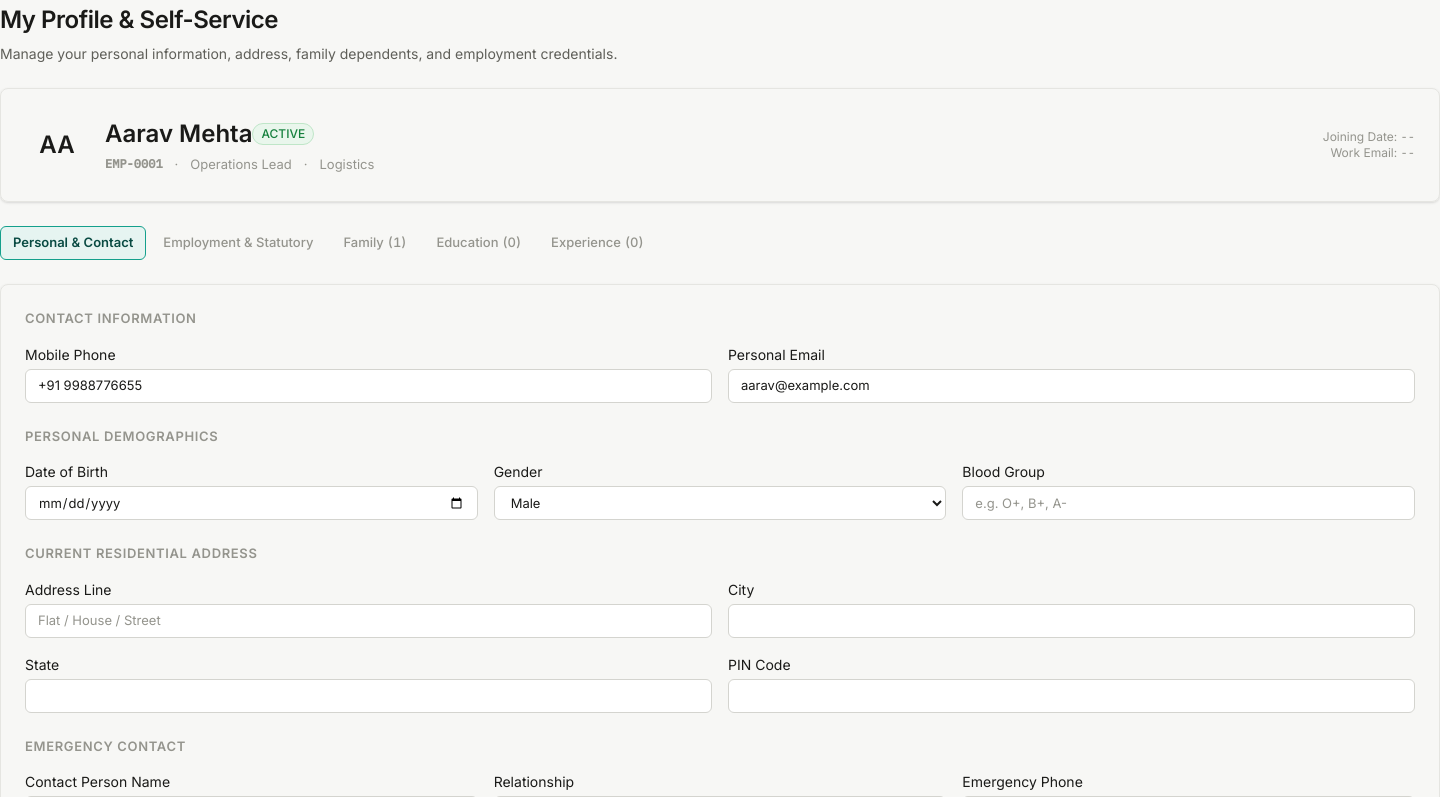
it: MyProfilePage › renders profile when employee is linked
Expected: the heading "Aarav Mehta" is shown, 105,117 -> 252,151
Expected: the text "EMP-0001" is shown, 105,156 -> 163,172
Check family tab
Click the tab "Family (1)".
click(375, 243)  # box 330,226 -> 419,260
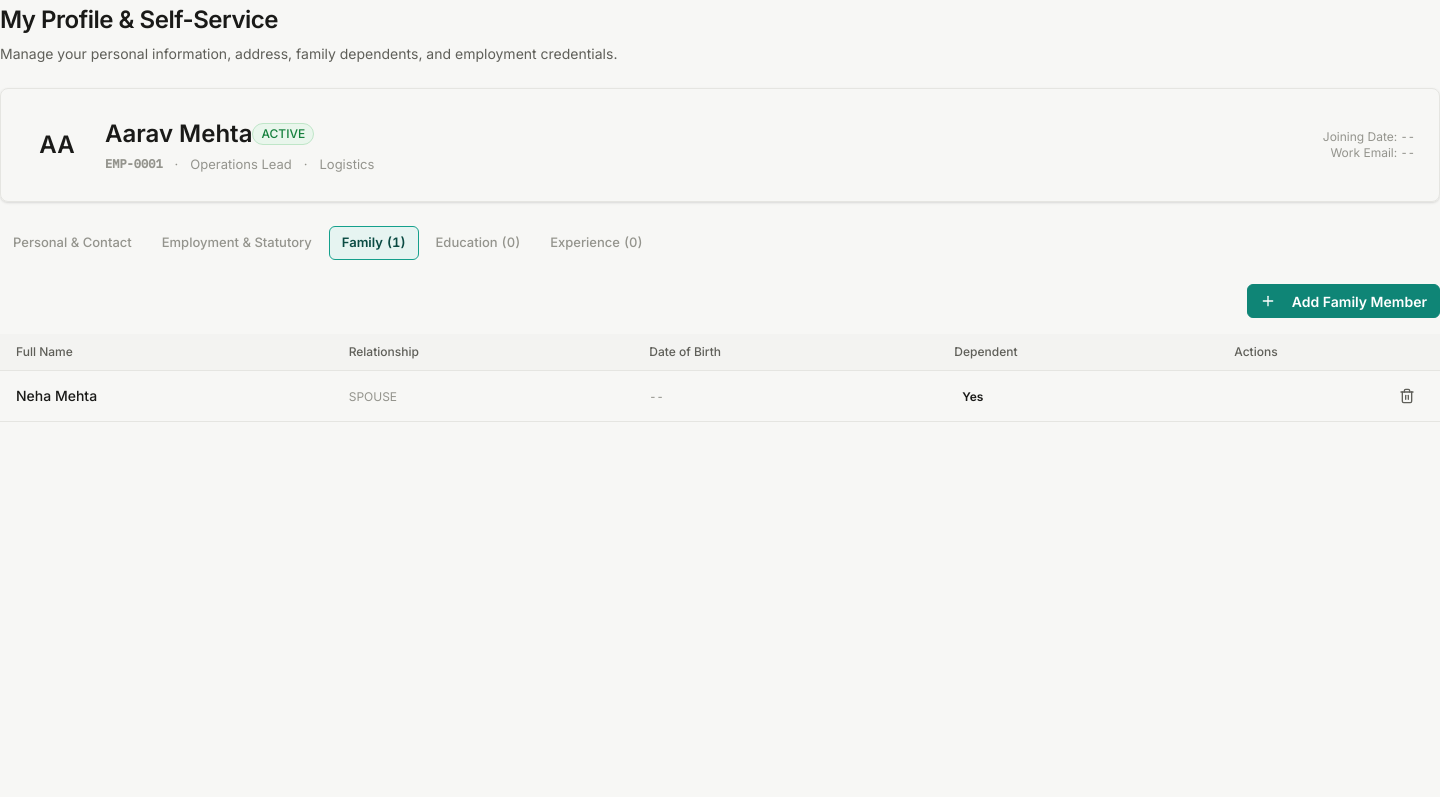
Now the text "Neha Mehta" is shown, box 16,387 -> 97,404
